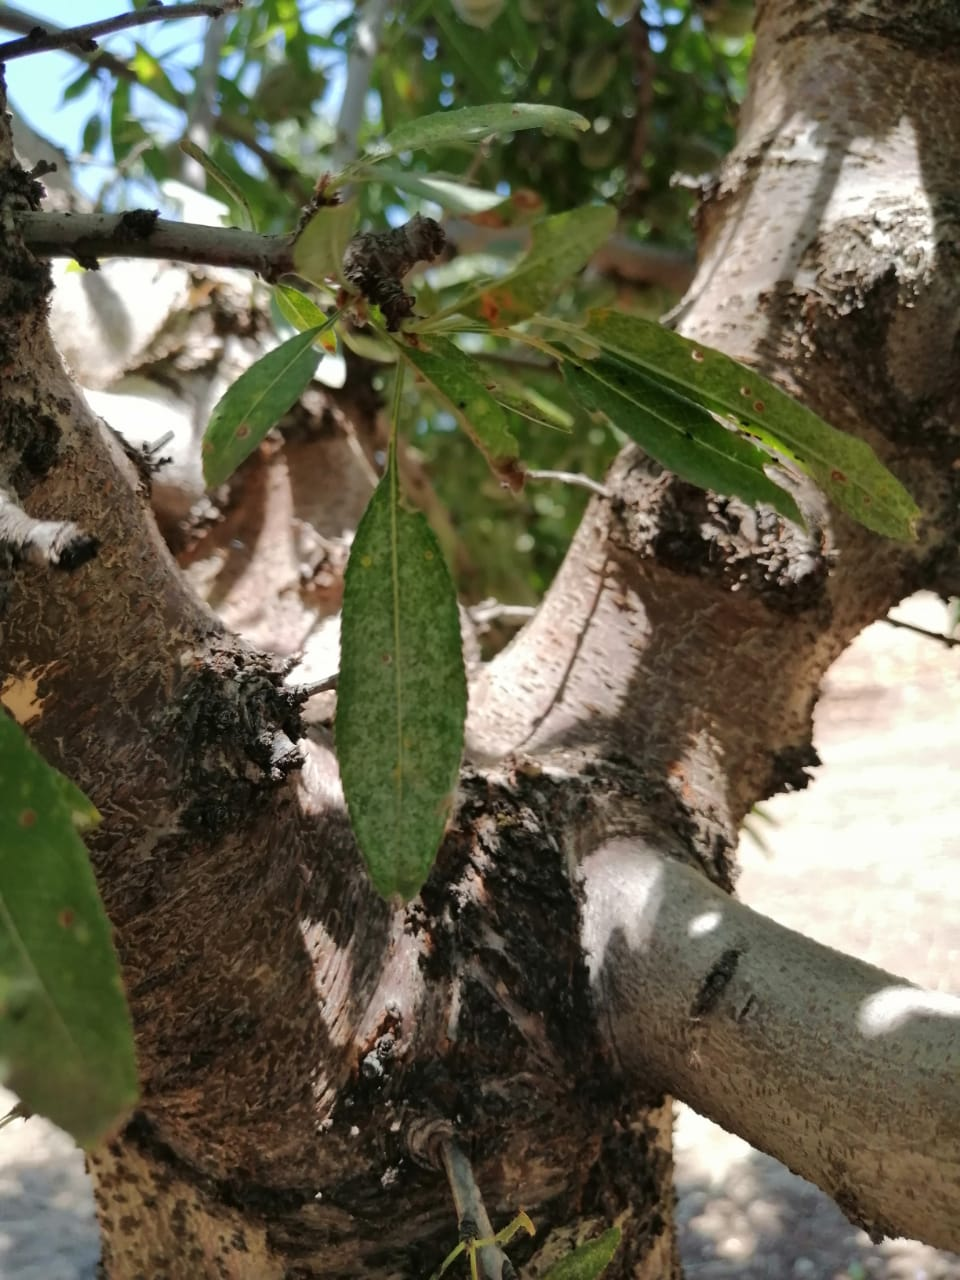acariens: (337, 475, 471, 904)
